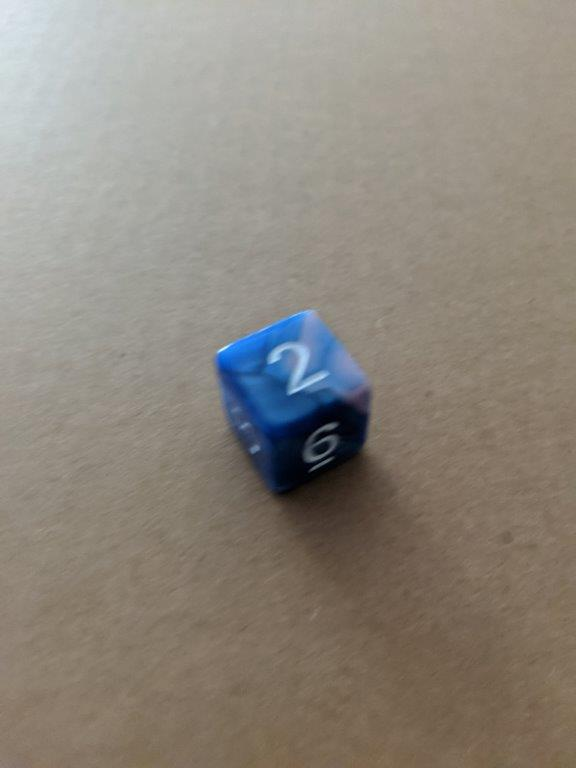d6-2: (212, 308, 372, 496)
